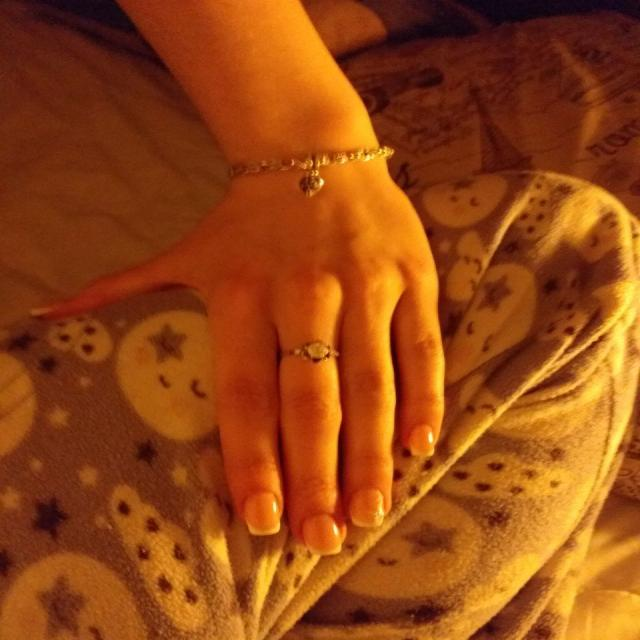Nail: (301, 512, 341, 554), (242, 491, 280, 534), (349, 489, 385, 527), (406, 424, 435, 456), (31, 306, 52, 317)
